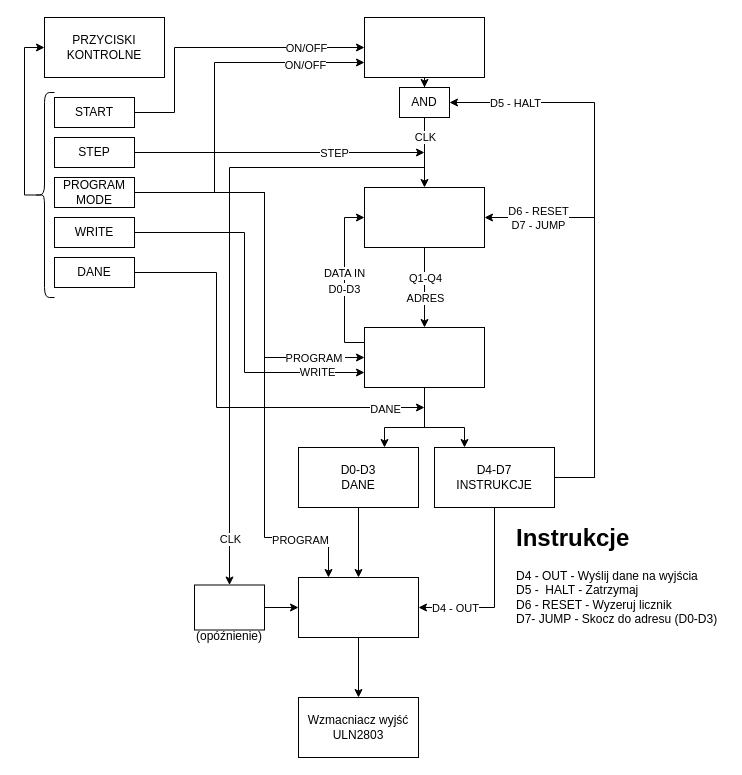
The diagram is 742 pixels wide and 775 high, and some of its shapes have lost their labels. The shapes that lost their labels are listed below. From the top down, each one's box as (x1, y1, x2, y2) in pixels, then its label:
(364, 16, 484, 78): NE555
(364, 186, 484, 248): Licznik 74HC161
(364, 326, 484, 388): Pamięć HM6264
(194, 584, 264, 630): RC + Shmitt 74HC14
(298, 576, 418, 638): Bufor trójstanowy 74HC574
